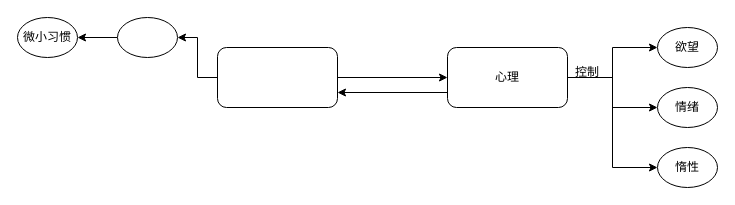
This 735x205 diagram has some shape labels left out. The shapes that lost their labels are listed below. From the top down, each one's box as (x1, y1, x2, y2) in pixels, then its label:
(116, 16, 178, 58): 潜意识
(216, 46, 338, 108): 能力
